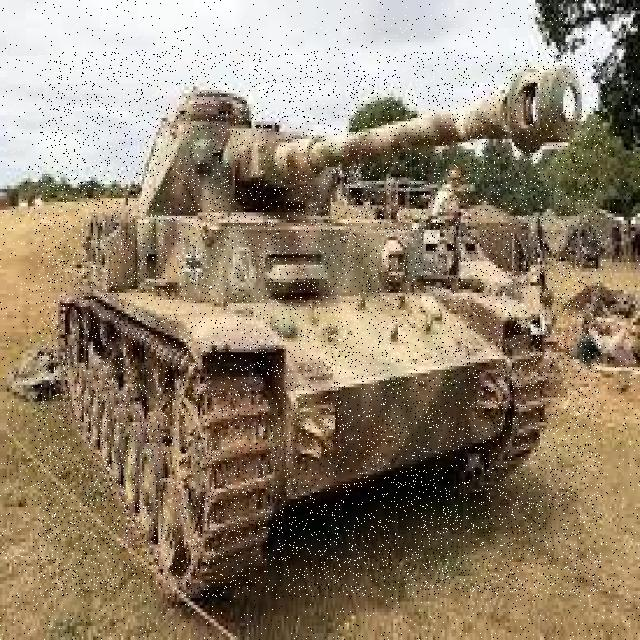MIL_MBT: (38, 53, 602, 597)
